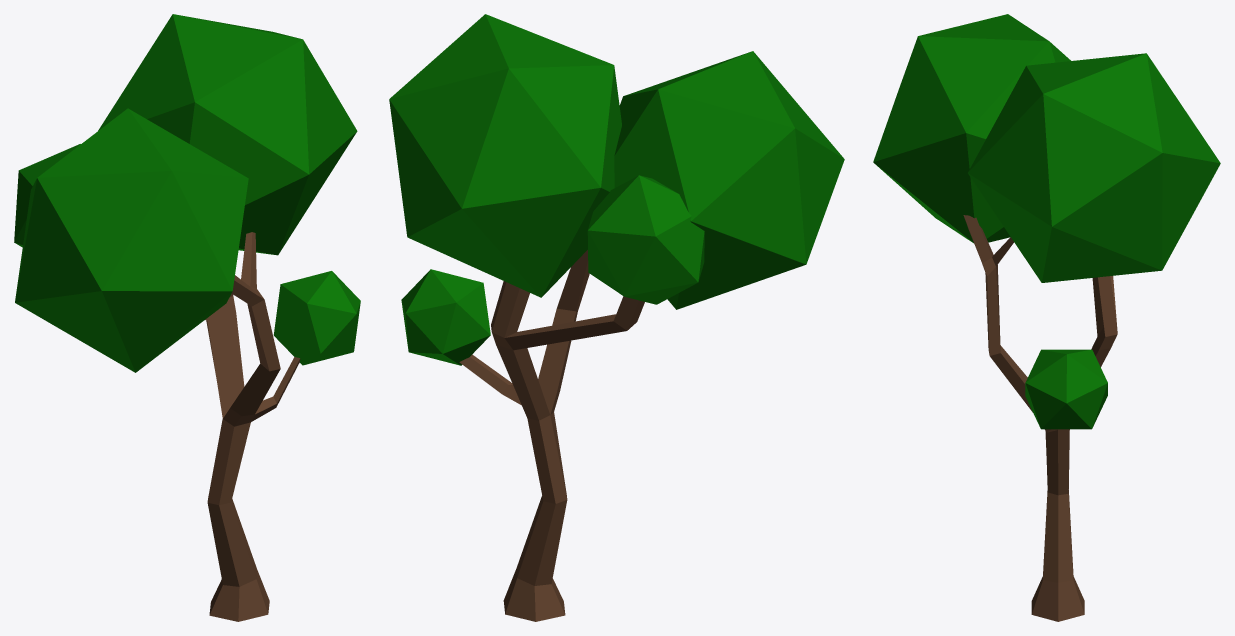
Rendered from Tree_sphere_1.fbx.
3 views of the same model, side by side, from view 1: azimuth 30°, elevation 25°; view 2: azimuth 150°, elevation 25°; view 3: azimuth 270°, elevation 25° (orthographic). The views are drawn at different scales.
Visible parts, largest first — view 1: SphereTreeV1; view 2: SphereTreeV1; view 3: SphereTreeV1.
Part boxes in pixels (left/top/right/bottom): SphereTreeV1: left=14, top=14, right=360, bottom=621; SphereTreeV1: left=389, top=14, right=844, bottom=621; SphereTreeV1: left=873, top=14, right=1220, bottom=621.
Size of the model in its own units: 1176 by 1714 by 992.
